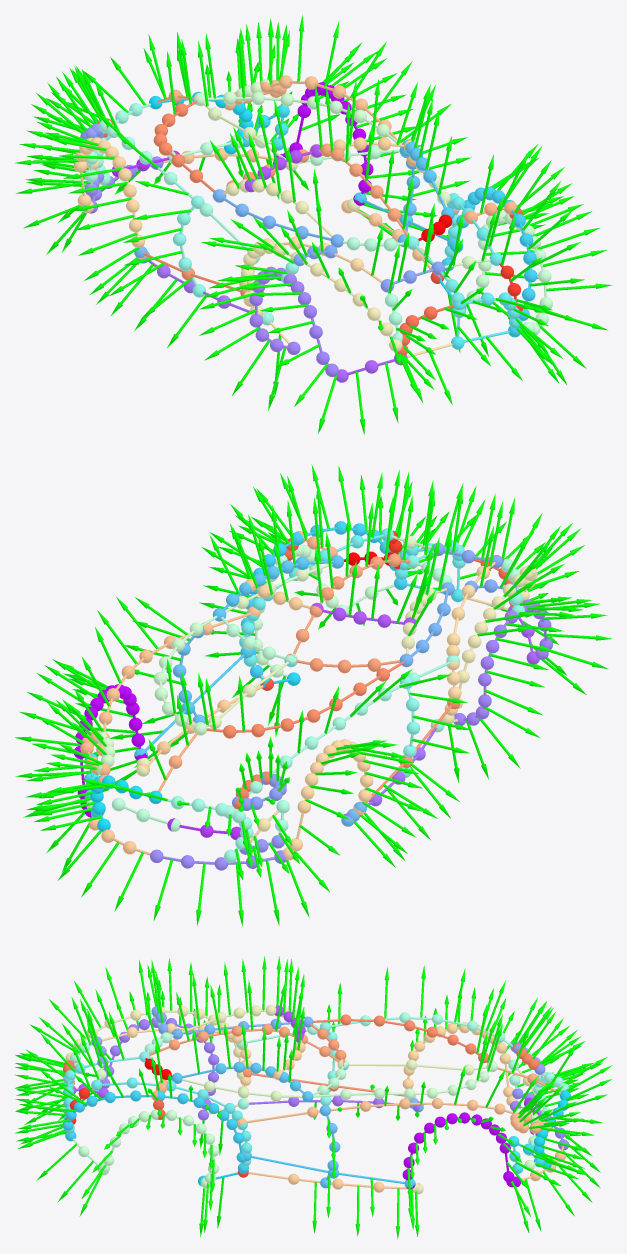
Rendered from ils_roadster.gltf.
3 views of the same model, one above another, from view 1: azimuth 30°, elevation 25°; view 2: azimuth 150°, elevation 25°; view 3: azimuth 270°, elevation 25° (orthographic). The views are drawn at different scales.
Size of the model in its own units: 0.5907 by 0.4214 by 1.07.
